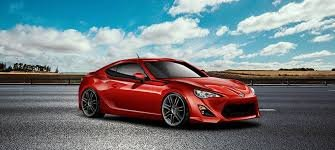mobil: (78, 53, 261, 127)
